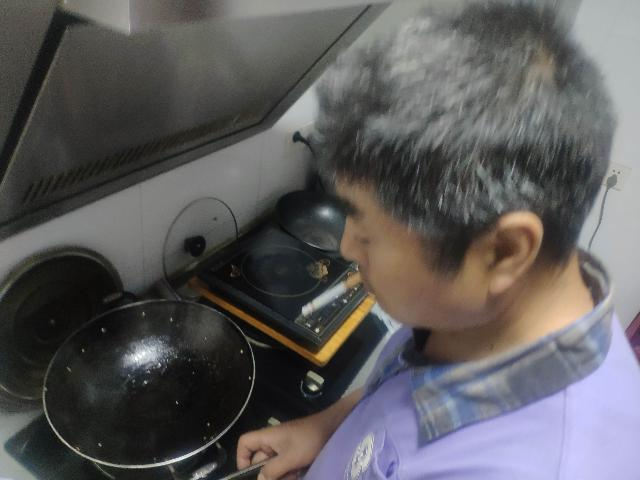Cigarette: (302, 272, 364, 318)
